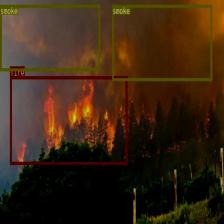fire: (10, 76, 127, 164)
smoke: (112, 4, 212, 81), (0, 4, 99, 70)
